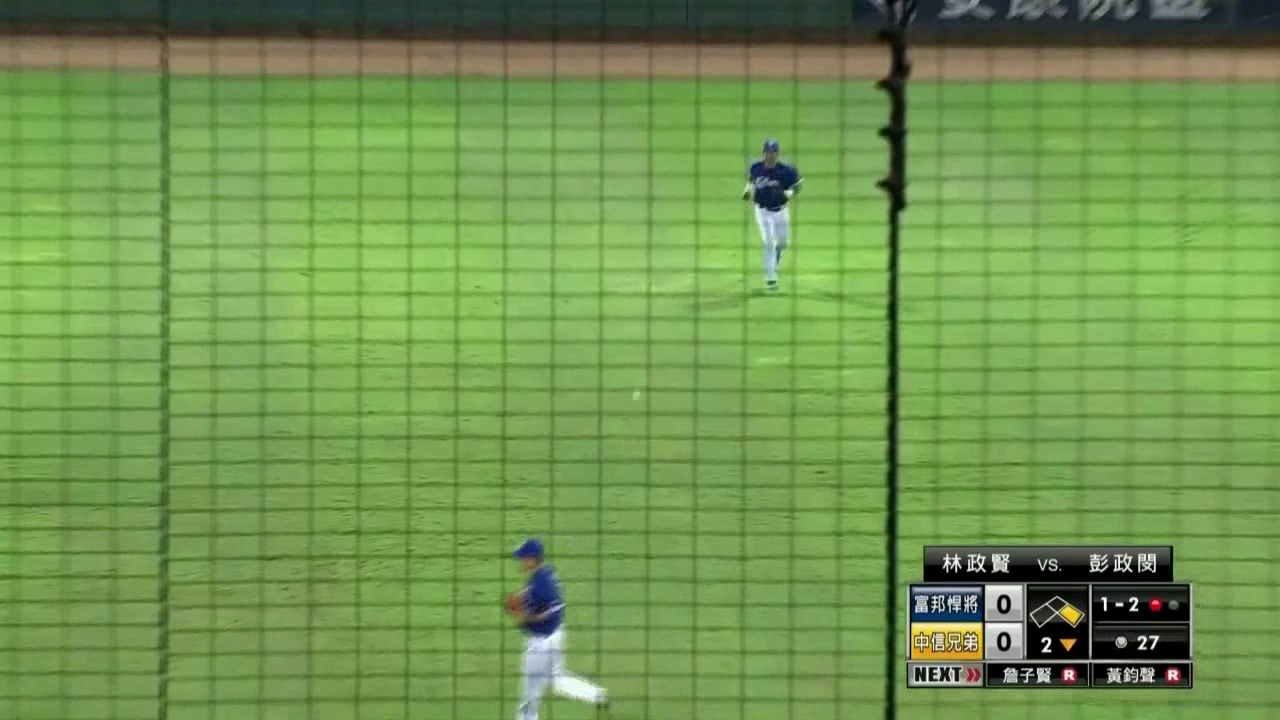ball: (630, 389, 641, 401)
base: (1028, 591, 1087, 629)
out: (1144, 590, 1184, 619)
score1: (987, 587, 1019, 619)
score2: (986, 627, 1020, 656)
session: (1031, 634, 1084, 657)
strikeball: (1095, 591, 1142, 622)
total: (1094, 629, 1187, 657)
